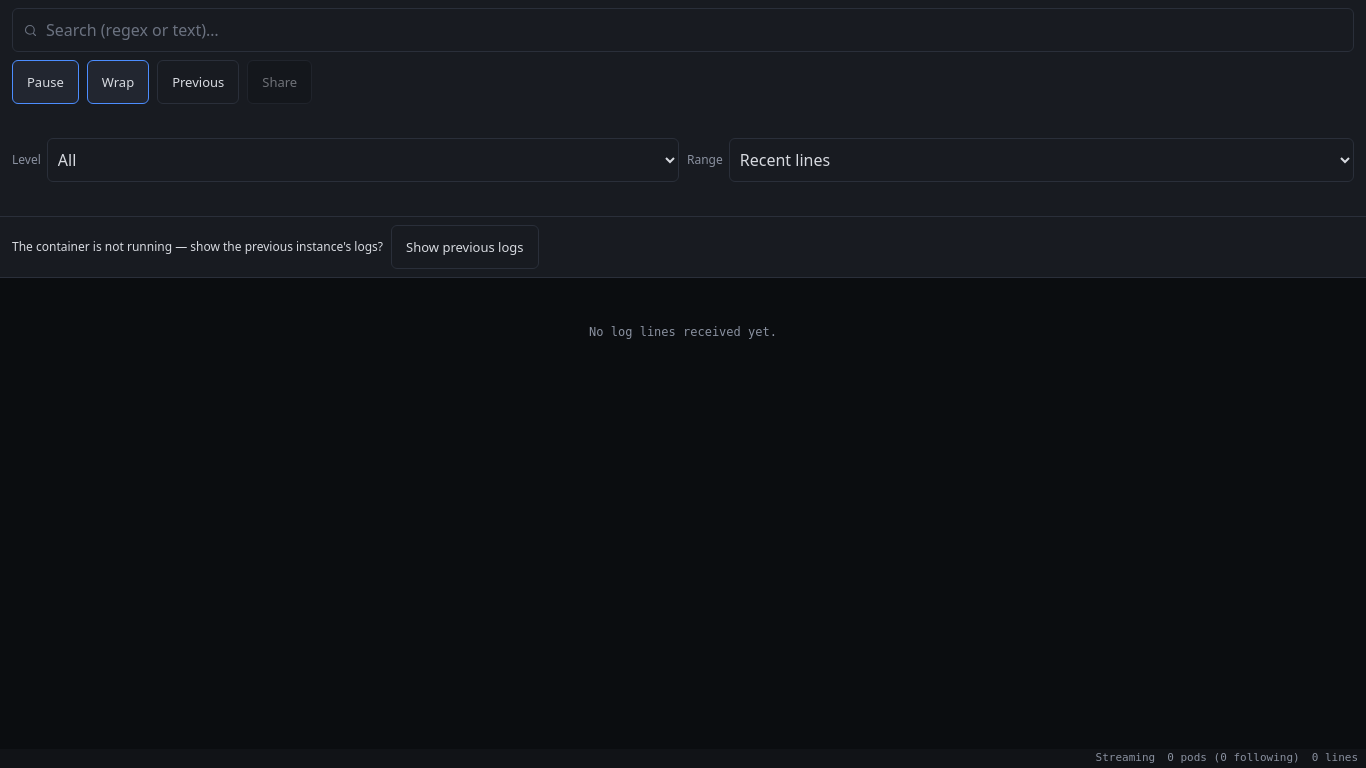
Test: WorkloadLogsView on the phone › not-running container with no live lines offers the previous instance
Expected: the element with test id "logs-previous-offer" shows "The container is not running — show the previous instance's logs?", x1=12 y1=238 x2=383 y2=255
Click the button "Show previous logs". click: [465, 247]
box: x1=391 y1=225 x2=538 y2=269
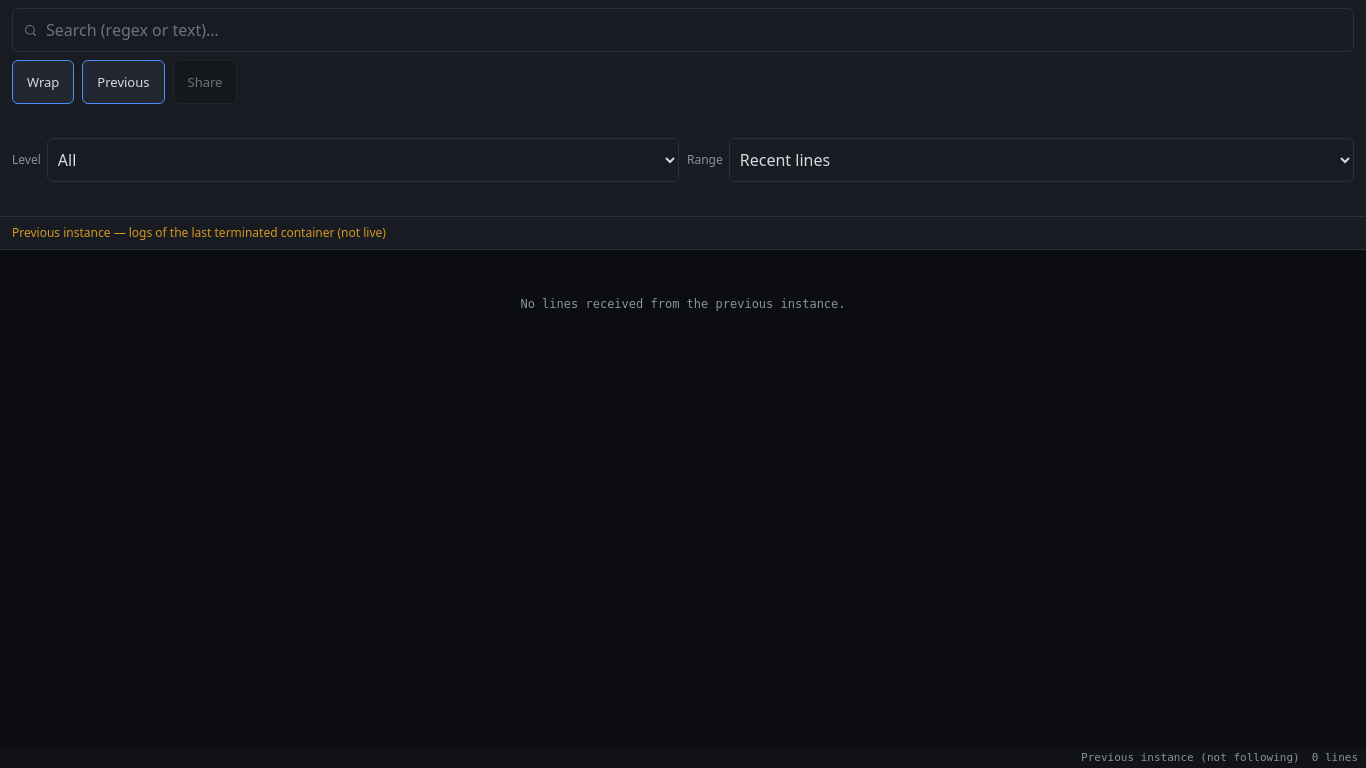
Now the element with test id "logs-previous-offer" is gone
